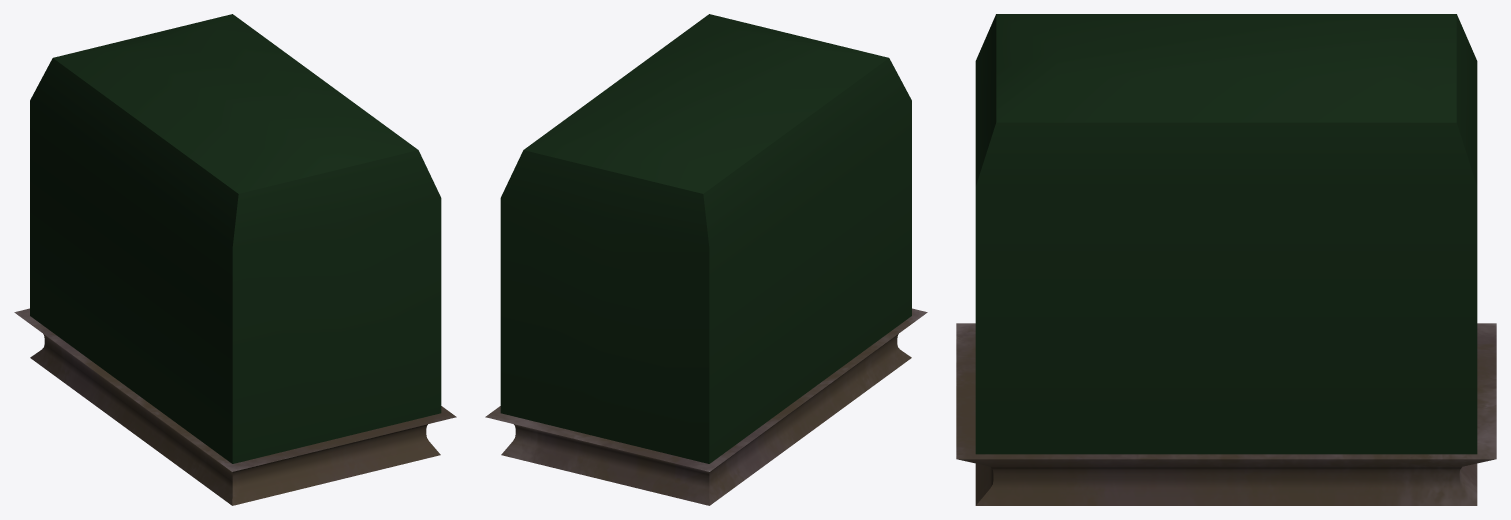
The picture shows the model from 3 angles, left to right: view 1: azimuth 30°, elevation 25°; view 2: azimuth 150°, elevation 25°; view 3: azimuth 270°, elevation 25°; orthographic projection. The views are drawn at different scales.
Visible parts, largest first — view 1: GlassBox026, DisplayBoxVar012; view 2: GlassBox026, DisplayBoxVar012; view 3: GlassBox026, DisplayBoxVar012.
Part boxes in pixels (<box>): GlassBox026: <box>30,14,441,463</box>; DisplayBoxVar012: <box>14,308,456,505</box>; GlassBox026: <box>500,14,911,463</box>; DisplayBoxVar012: <box>485,308,927,505</box>; GlassBox026: <box>975,14,1477,454</box>; DisplayBoxVar012: <box>956,323,1496,505</box>.
Size of the model in its own units: 169 by 228 by 284.
